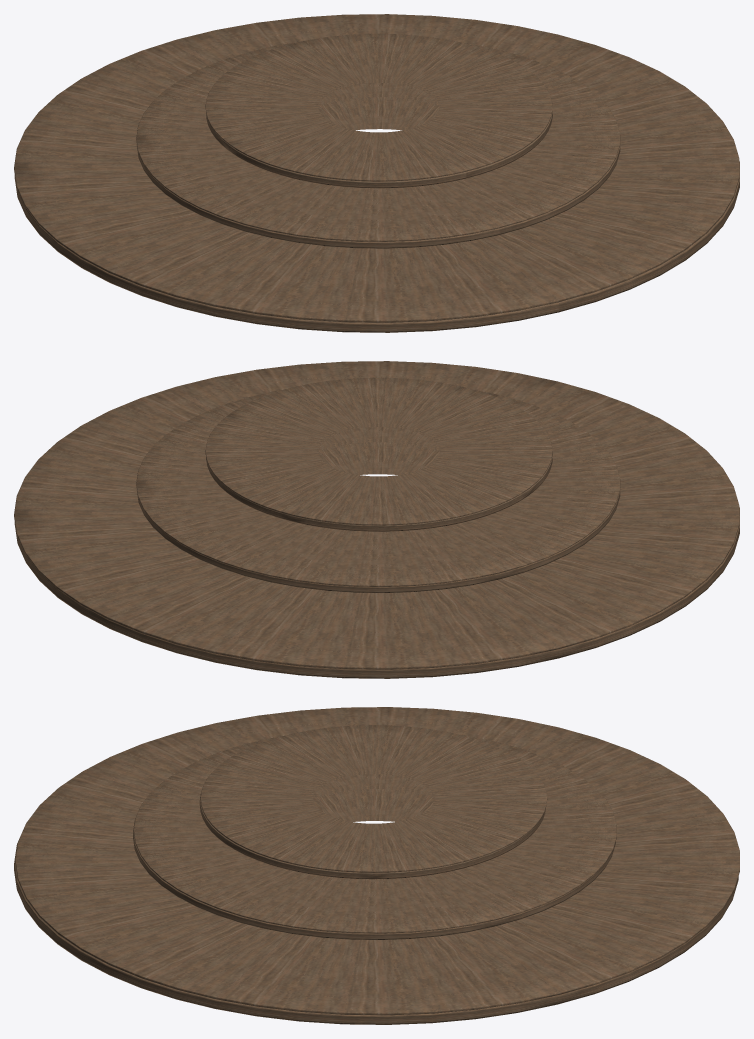
The model's file is Rounded_Tree_Platforms_1A1.fbx.
3 renders of one model, top to bottom at view 1: azimuth 30°, elevation 25°; view 2: azimuth 150°, elevation 25°; view 3: azimuth 270°, elevation 25°, orthographic.
Visible parts, largest first — view 1: Rounded_Tree_Platform_Huge_1A1, Rounded_Tree_Platform_1A1, Rounded_Tree_Platform_1A2; view 2: Rounded_Tree_Platform_Huge_1A1, Rounded_Tree_Platform_1A1, Rounded_Tree_Platform_1A2; view 3: Rounded_Tree_Platform_Huge_1A1, Rounded_Tree_Platform_1A1, Rounded_Tree_Platform_1A2.
Boxes of the visible parts, <box> form: Rounded_Tree_Platform_Huge_1A1: <box>14,14,739,332</box>; Rounded_Tree_Platform_1A1: <box>136,41,620,248</box>; Rounded_Tree_Platform_1A2: <box>205,33,552,188</box>; Rounded_Tree_Platform_Huge_1A1: <box>14,361,739,678</box>; Rounded_Tree_Platform_1A1: <box>136,389,620,592</box>; Rounded_Tree_Platform_1A2: <box>205,377,552,531</box>; Rounded_Tree_Platform_Huge_1A1: <box>14,707,739,1024</box>; Rounded_Tree_Platform_1A1: <box>133,734,616,939</box>; Rounded_Tree_Platform_1A2: <box>199,725,547,879</box>.
Size of the model in its own units: 4117 by 463 by 4122.
